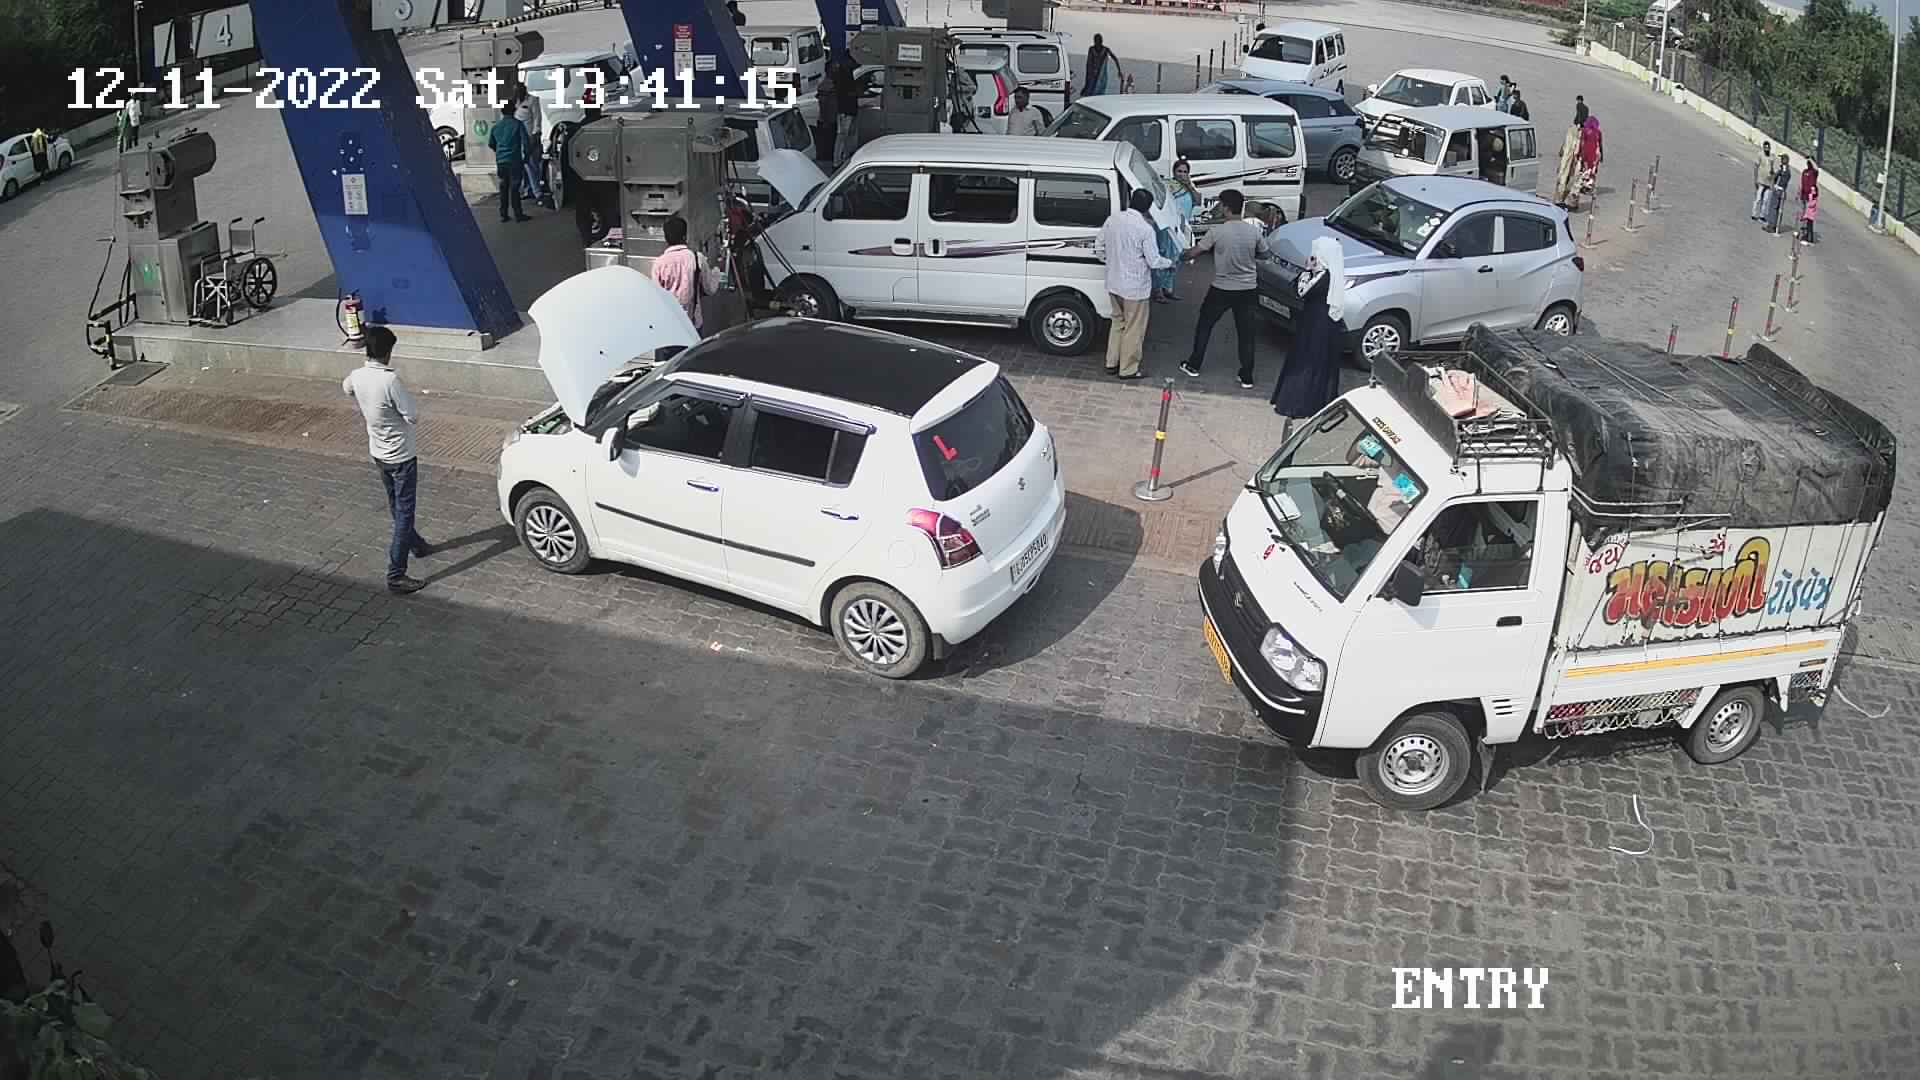Bike: (0, 874, 179, 1077)
Car: (1185, 311, 1905, 820), (487, 286, 1073, 676), (745, 133, 1200, 352), (1247, 164, 1592, 371), (1031, 80, 1319, 247), (1185, 69, 1371, 189), (1352, 98, 1545, 196), (709, 88, 827, 233), (512, 36, 641, 161), (940, 17, 1079, 131), (1222, 18, 1364, 111), (1348, 65, 1490, 142), (729, 13, 831, 120), (928, 45, 1040, 132), (0, 104, 82, 220)
